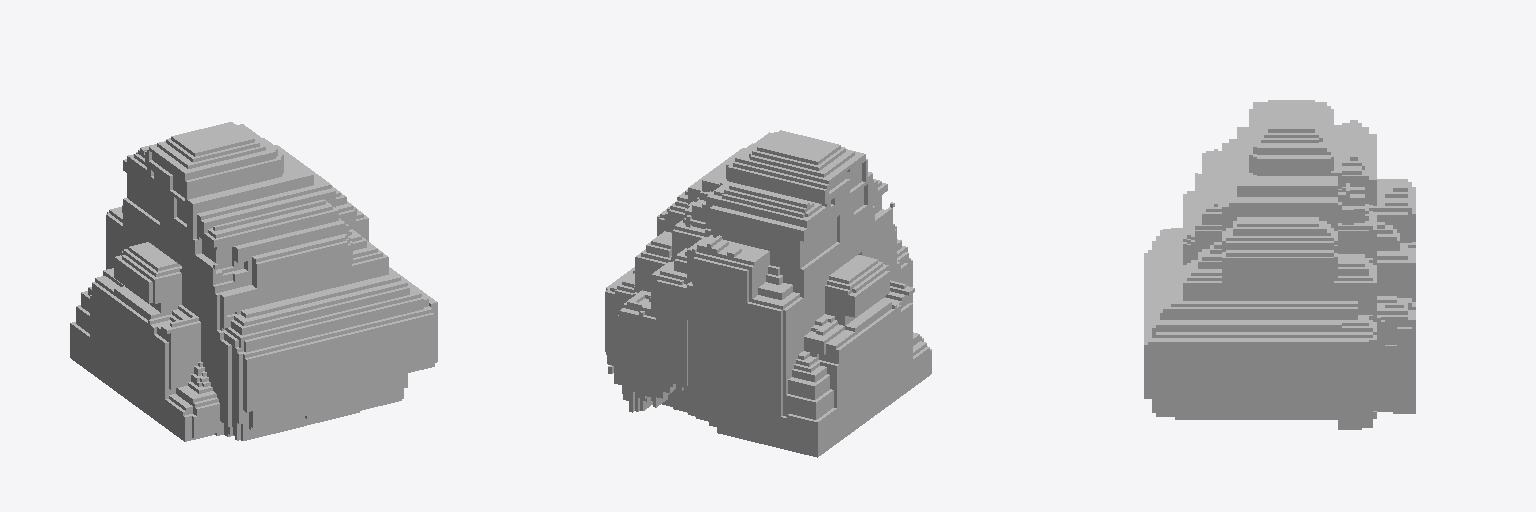
The model's file is Stone.obj.
3 renders of one model, left to right at view 1: azimuth 30°, elevation 25°; view 2: azimuth 150°, elevation 25°; view 3: azimuth 270°, elevation 25°, orthographic.
Parts seen in each view (by area): view 1: object 1; view 2: object 1; view 3: object 1.
Part boxes in pixels (x1,y1,x2,y2): object 1: (70,122,437,441); object 1: (605,130,931,457); object 1: (1144,100,1415,429).
Bounding box in the file's own units: 7 × 7 × 7.